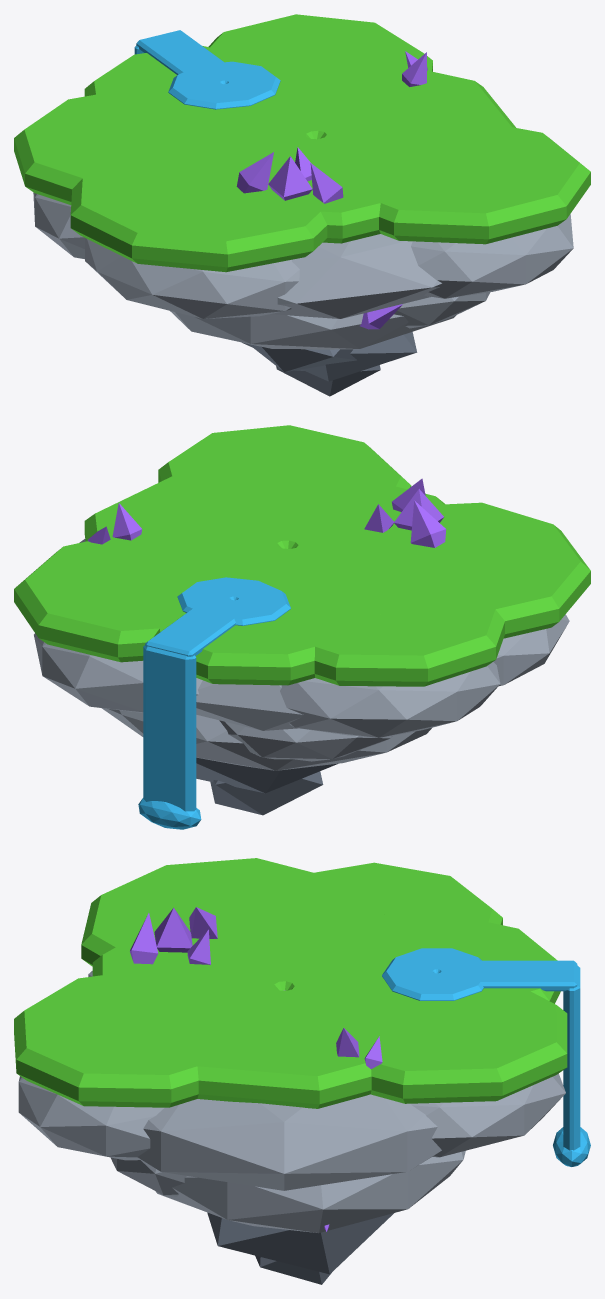
Rendered from Prop_realm_of_legends_FloatingIsland.glb.
The picture shows the model from 3 angles, top to bottom: view 1: azimuth 30°, elevation 25°; view 2: azimuth 150°, elevation 25°; view 3: azimuth 270°, elevation 25°; orthographic projection. The views are drawn at different scales.
Parts seen in each view (by area): view 1: Grass_5BD43A, StoneLight_9AA4B2, Water_38BDF8, StoneDark_6B7686, ZoneViolet_A66BFF; view 2: Grass_5BD43A, StoneLight_9AA4B2, Water_38BDF8, StoneDark_6B7686, ZoneViolet_A66BFF; view 3: Grass_5BD43A, StoneLight_9AA4B2, Water_38BDF8, StoneDark_6B7686, ZoneViolet_A66BFF.
Part boxes in pixels (x1=…): Grass_5BD43A: x1=14, y1=14, x2=590, y2=272; StoneLight_9AA4B2: x1=33, y1=192, x2=573, y2=349; Water_38BDF8: x1=134, y1=30, x2=280, y2=109; StoneDark_6B7686: x1=242, y1=332, x2=417, y2=396; ZoneViolet_A66BFF: x1=236, y1=51, x2=427, y2=329; Grass_5BD43A: x1=14, y1=425, x2=590, y2=686; StoneLight_9AA4B2: x1=34, y1=539, x2=569, y2=770; Water_38BDF8: x1=138, y1=577, x2=290, y2=829; StoneDark_6B7686: x1=196, y1=757, x2=337, y2=815; ZoneViolet_A66BFF: x1=87, y1=478, x2=446, y2=547; Grass_5BD43A: x1=14, y1=858, x2=567, y2=1108; StoneLight_9AA4B2: x1=18, y1=971, x2=565, y2=1232; Water_38BDF8: x1=382, y1=948, x2=590, y2=1166; StoneDark_6B7686: x1=207, y1=1212, x2=393, y2=1284; ZoneViolet_A66BFF: x1=130, y1=907, x2=382, y2=1231.
Size of the model in its own units: 27.79 by 16.36 by 27.17.
